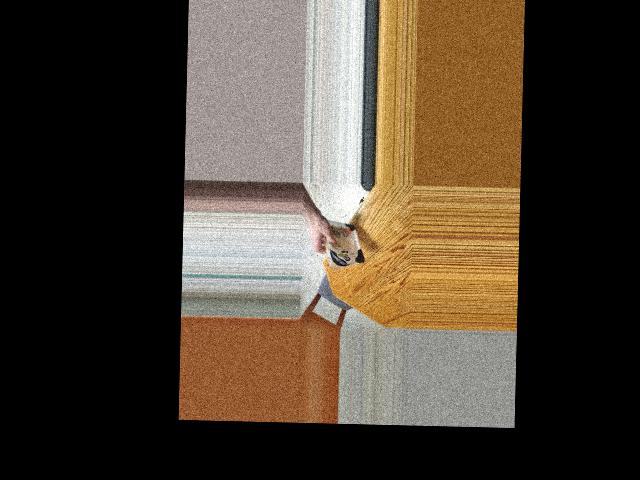cheese: (324, 218, 360, 270)
